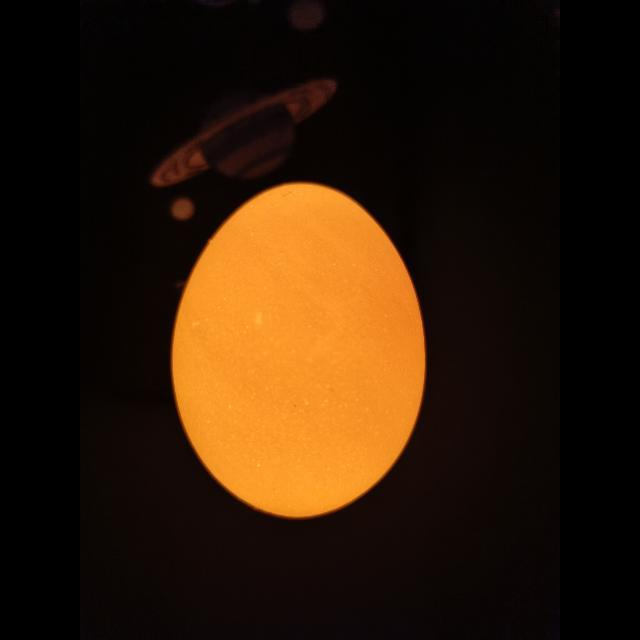AA - Premium: (173, 183, 425, 518)
